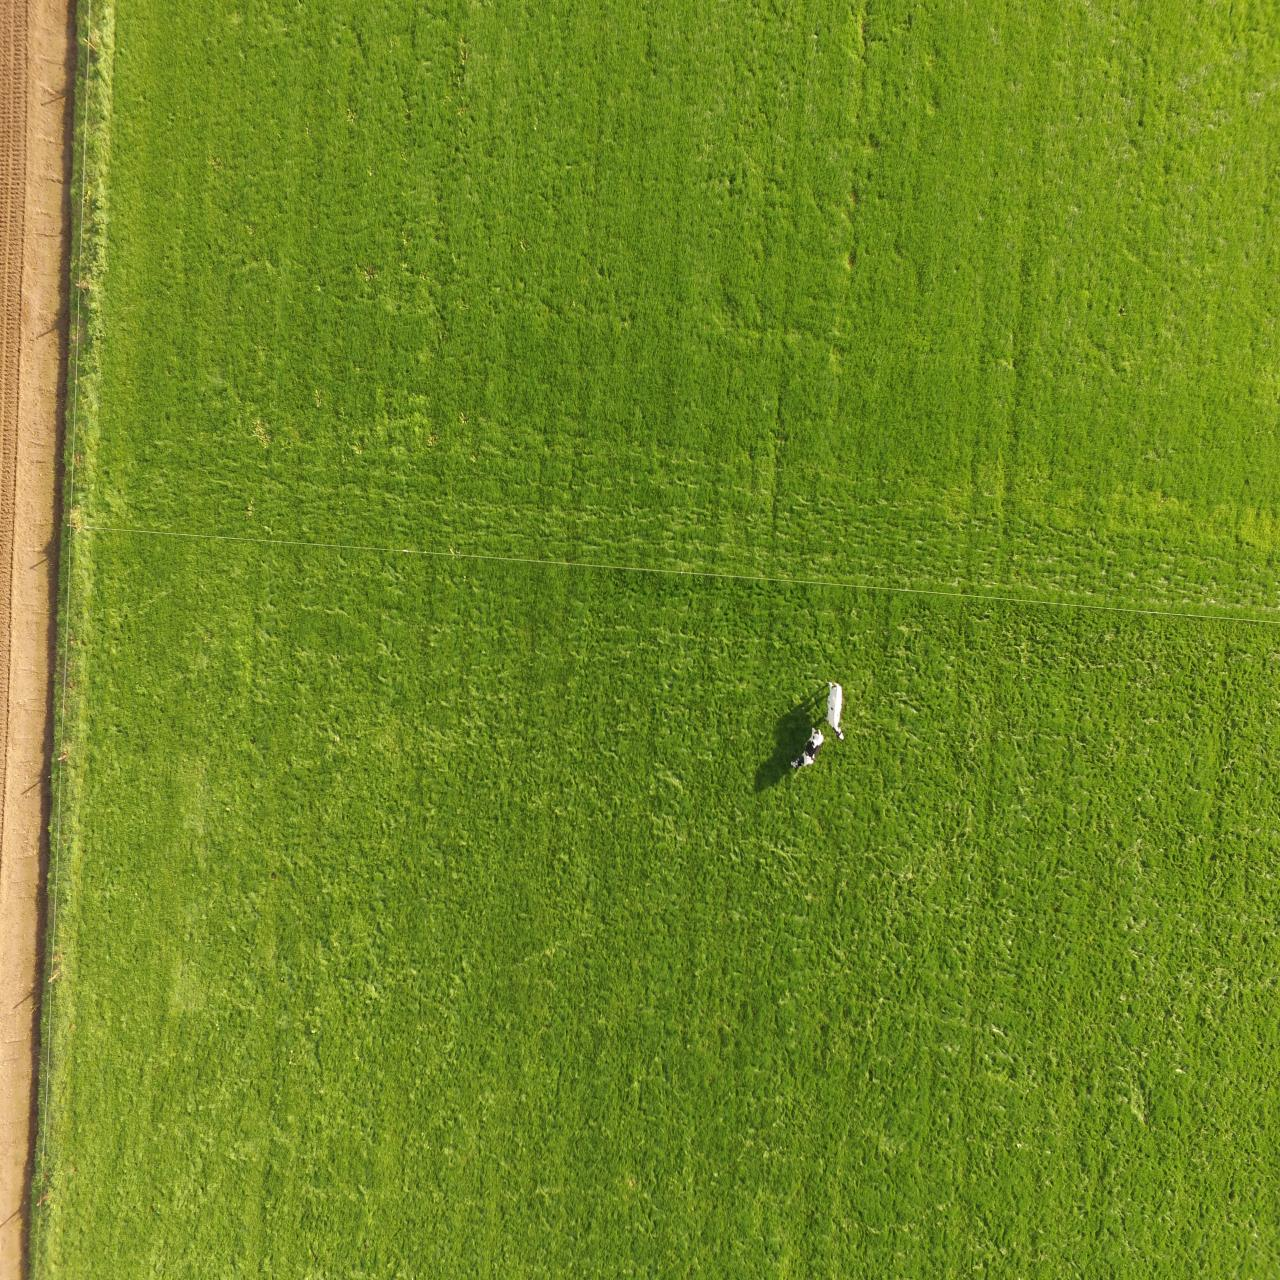cow: (790, 724, 828, 769), (824, 678, 845, 741)
